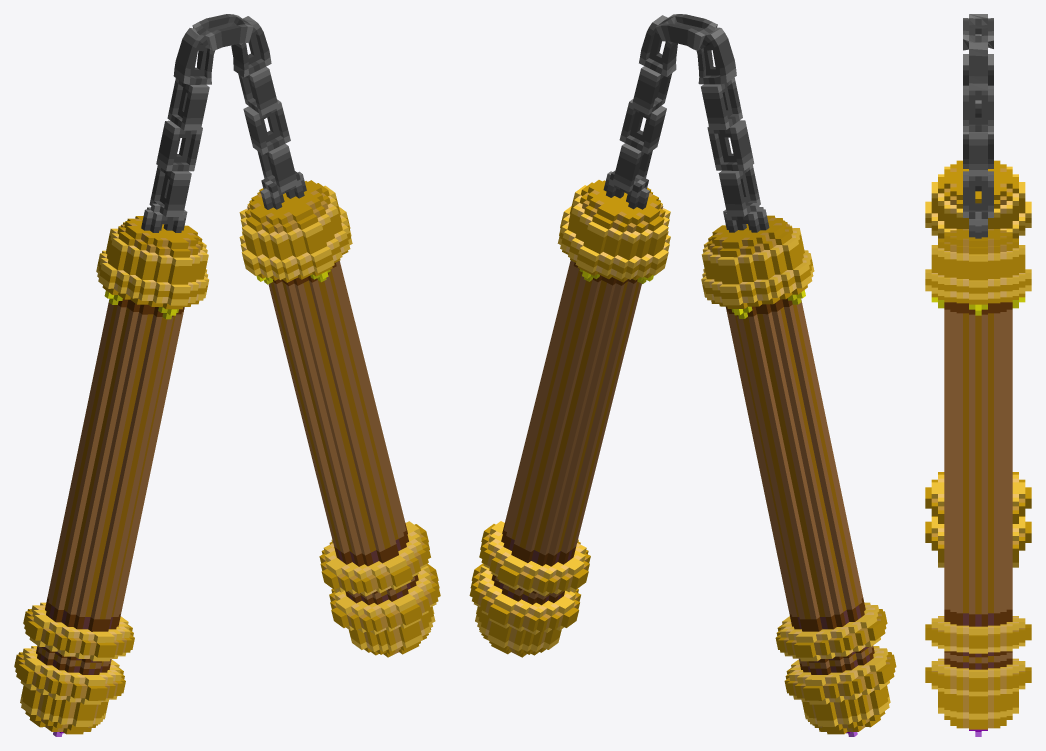
Rendered from nunchaku-lv1.glb.
3 renders of one model, left to right at view 1: azimuth 30°, elevation 25°; view 2: azimuth 150°, elevation 25°; view 3: azimuth 270°, elevation 25°, orthographic. The views are drawn at different scales.
Parts seen in each view (by area): view 1: nunchaku lv1; view 2: nunchaku lv1; view 3: nunchaku lv1.
Boxes of the visible parts, left/top/right/bottom form: nunchaku lv1: left=14, top=14, right=440, bottom=736; nunchaku lv1: left=469, top=14, right=896, bottom=736; nunchaku lv1: left=925, top=14, right=1031, bottom=736.
Size of the model in its own units: 0.6218 by 0.9701 by 0.1473.
Materials: 1 (1 with a texture image).
